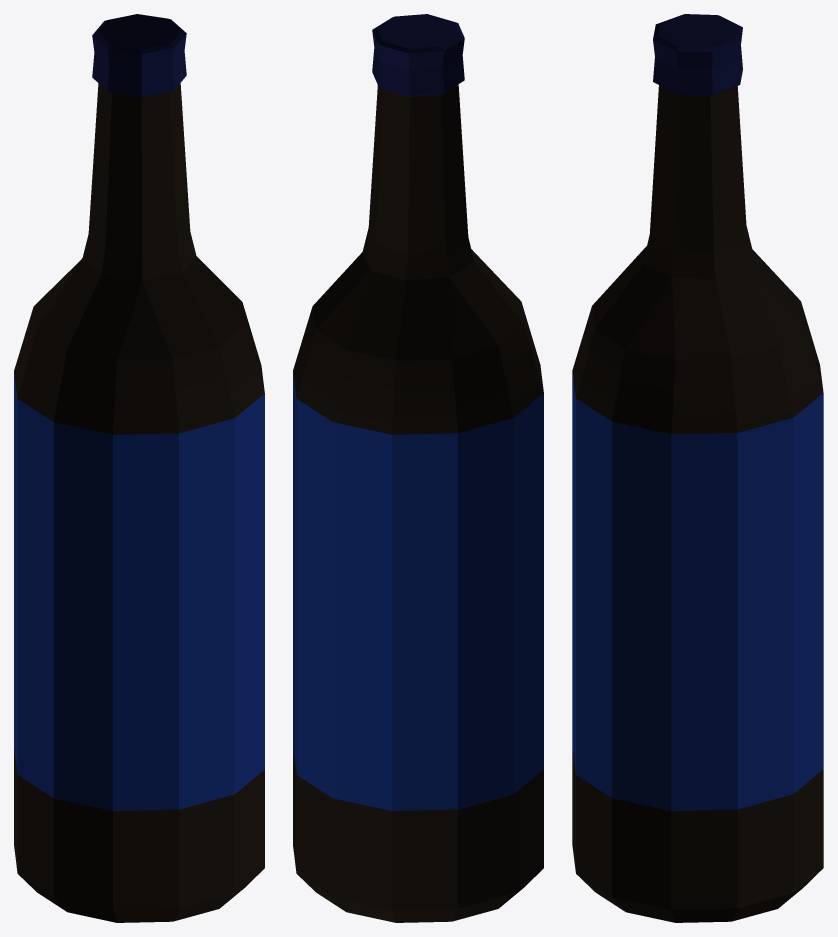
Rendered from Wine 2.fbx.
3 renders of one model, left to right at view 1: azimuth 30°, elevation 25°; view 2: azimuth 150°, elevation 25°; view 3: azimuth 270°, elevation 25°, orthographic.
Parts seen in each view (by area): view 1: Node 0; view 2: Node 0; view 3: Node 0.
Boxes of the visible parts, x1,y1,x2,y2 form: Node 0: (14,14,264,922); Node 0: (293,14,543,922); Node 0: (572,14,823,922).
Bounding box in the file's own units: 0.0758 × 0.2823 × 0.0758.
